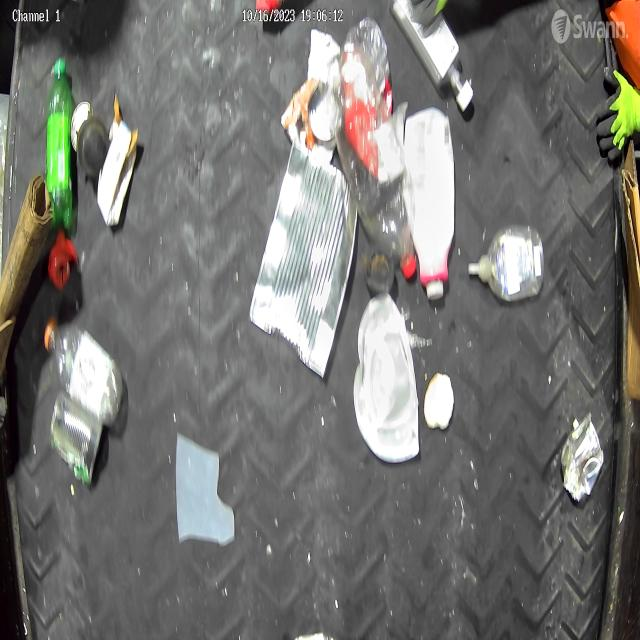can: (251, 138, 360, 377), (49, 393, 104, 487), (282, 75, 334, 152), (560, 413, 603, 505), (71, 100, 109, 180)
milk_jug: (404, 108, 456, 300)
plastic_bottle: (336, 18, 415, 276), (44, 317, 124, 427)
